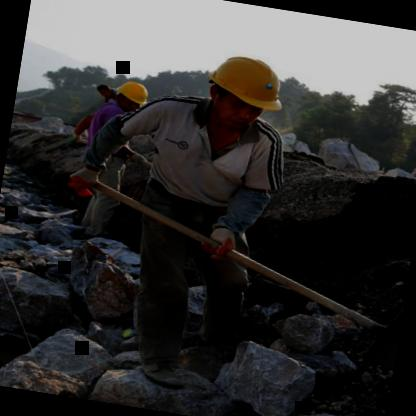helmet: (192, 41, 290, 142), (111, 76, 154, 116)
